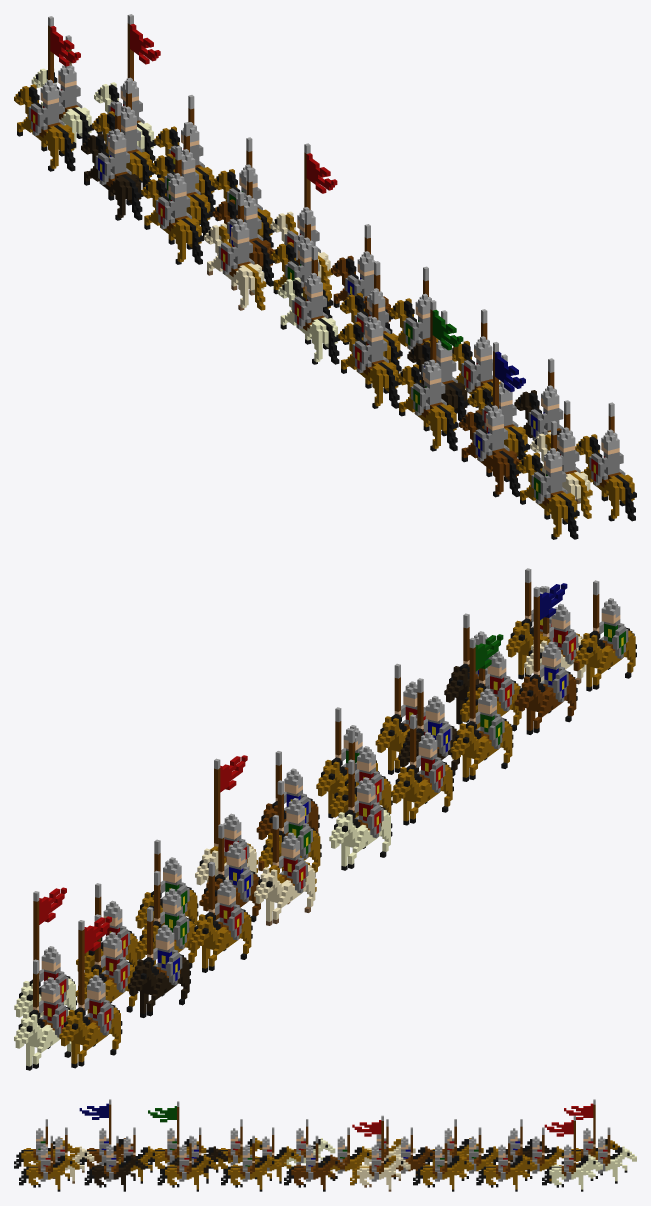
The model's file is Cavaliers-army.vox.obj.
3 renders of one model, top to bottom at view 1: azimuth 30°, elevation 25°; view 2: azimuth 150°, elevation 25°; view 3: azimuth 270°, elevation 25°, orthographic. The views are drawn at different scales.
Bounding box in the file's own units: 2.3 × 3.4 × 25.6.
1 material, 1 textured.
